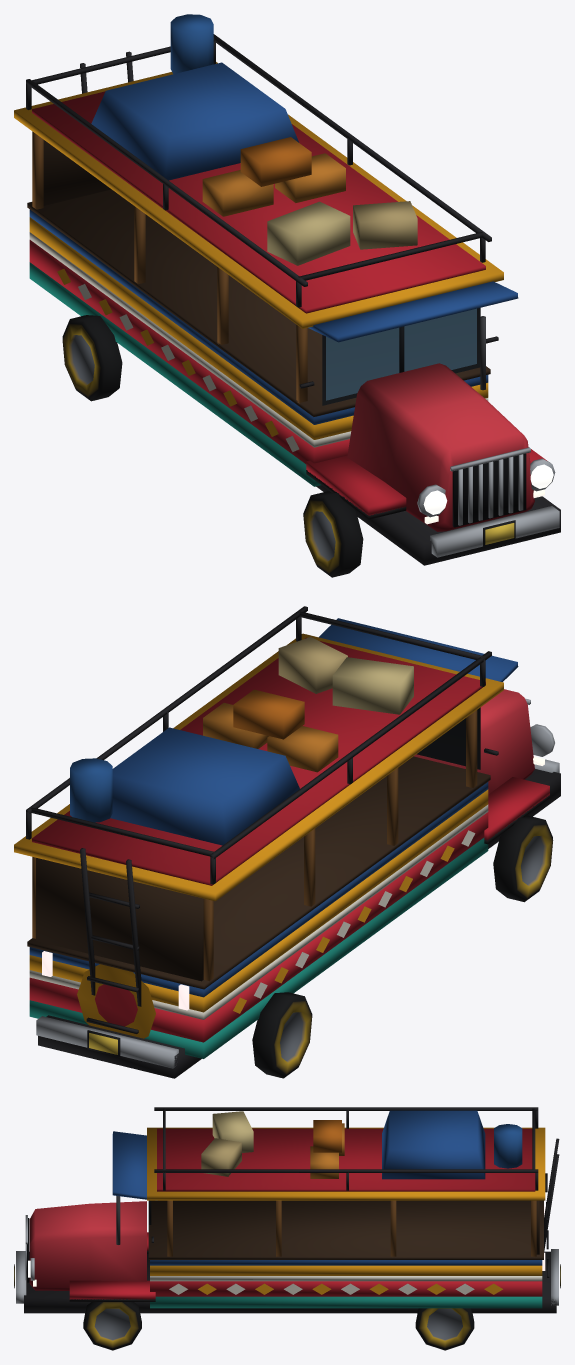
Rendered from chiva.glb.
3 renders of one model, top to bottom at view 1: azimuth 30°, elevation 25°; view 2: azimuth 150°, elevation 25°; view 3: azimuth 270°, elevation 25°, orthographic. The views are drawn at different scales.
Visible parts, largest first — view 1: chiva; view 2: chiva; view 3: chiva.
Boxes of the visible parts, left/top/right/bottom form: chiva: left=14, top=14, right=560, bottom=577; chiva: left=14, top=606, right=560, bottom=1078; chiva: left=14, top=1107, right=560, bottom=1350.
Bounding box in the file's own units: 2.87 × 4.04 × 9.55.
